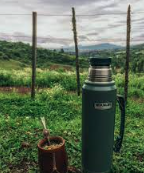madera: (36, 133, 68, 173)
mate: (35, 114, 69, 173)
